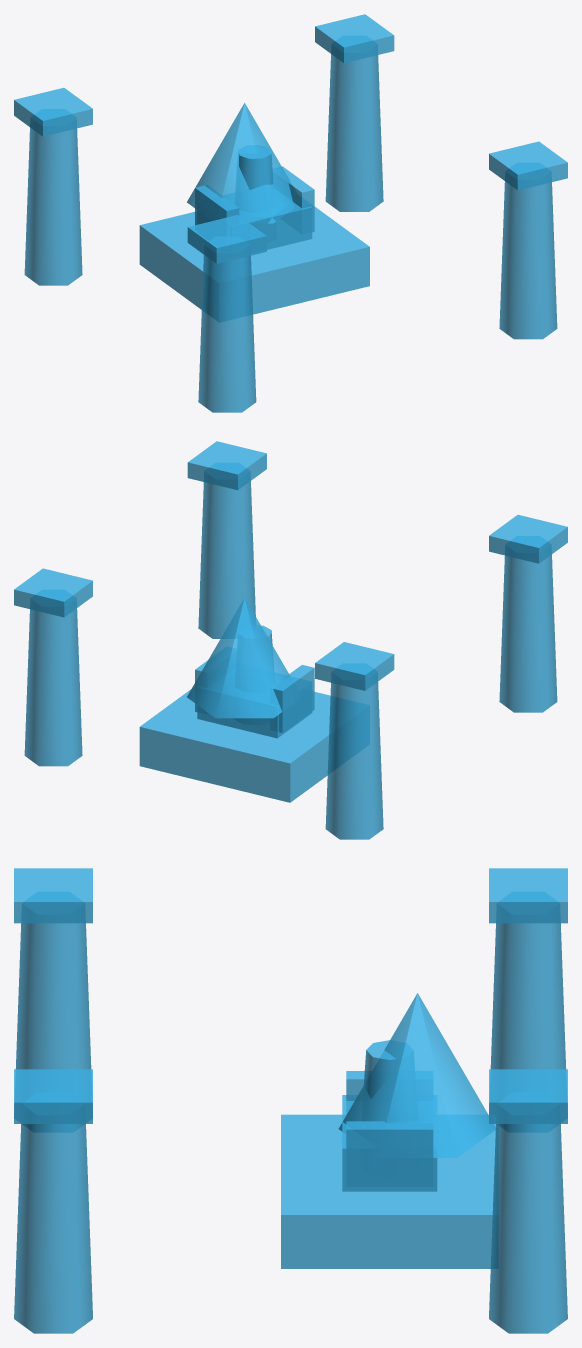
File: dev_06.glb
The picture shows the model from 3 angles, top to bottom: view 1: azimuth 30°, elevation 25°; view 2: azimuth 150°, elevation 25°; view 3: azimuth 270°, elevation 25°; orthographic projection. The views are drawn at different scales.
Parts seen in each view (by area): view 1: DEV_06, devias_queen_ice_throne; view 2: DEV_06, devias_queen_ice_throne; view 3: DEV_06, devias_queen_ice_throne.
Part boxes in pixels (box(x1,y1,x2,y2)): DEV_06: box(14, 14, 567, 412); devias_queen_ice_throne: box(187, 103, 314, 249); DEV_06: box(14, 441, 567, 839); devias_queen_ice_throne: box(187, 597, 314, 738); DEV_06: box(14, 868, 567, 1333); devias_queen_ice_throne: box(338, 993, 495, 1191).
Size of what is drawn, in the model's own units: 14 by 6.5 by 14.
